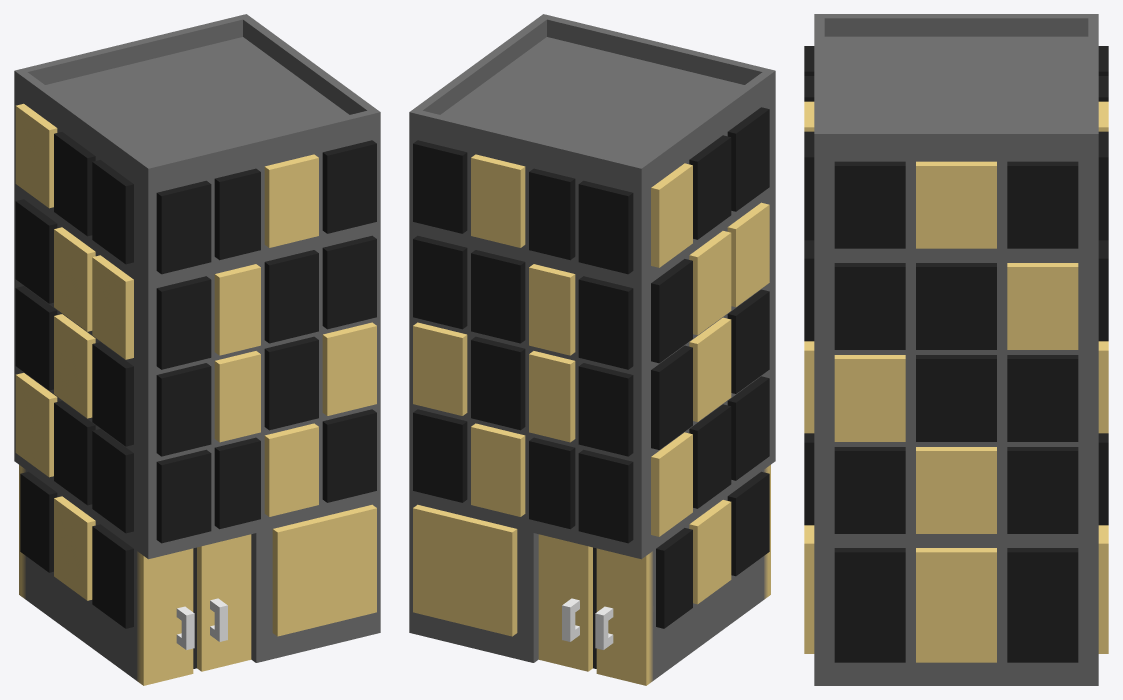
Rendered from TallBuilding2.dae.
The picture shows the model from 3 angles, left to right: view 1: azimuth 30°, elevation 25°; view 2: azimuth 150°, elevation 25°; view 3: azimuth 270°, elevation 25°; orthographic projection. The views are drawn at different scales.
Visible parts, largest first — view 1: Matrix; view 2: Matrix; view 3: Matrix.
Part boxes in pixels (x1,y1,x2,y2): Matrix: (14, 14, 380, 685); Matrix: (409, 14, 775, 685); Matrix: (804, 14, 1108, 685).
Bounding box in the file's own units: 30 × 60 × 30.
Materials: 1 (1 with a texture image).
